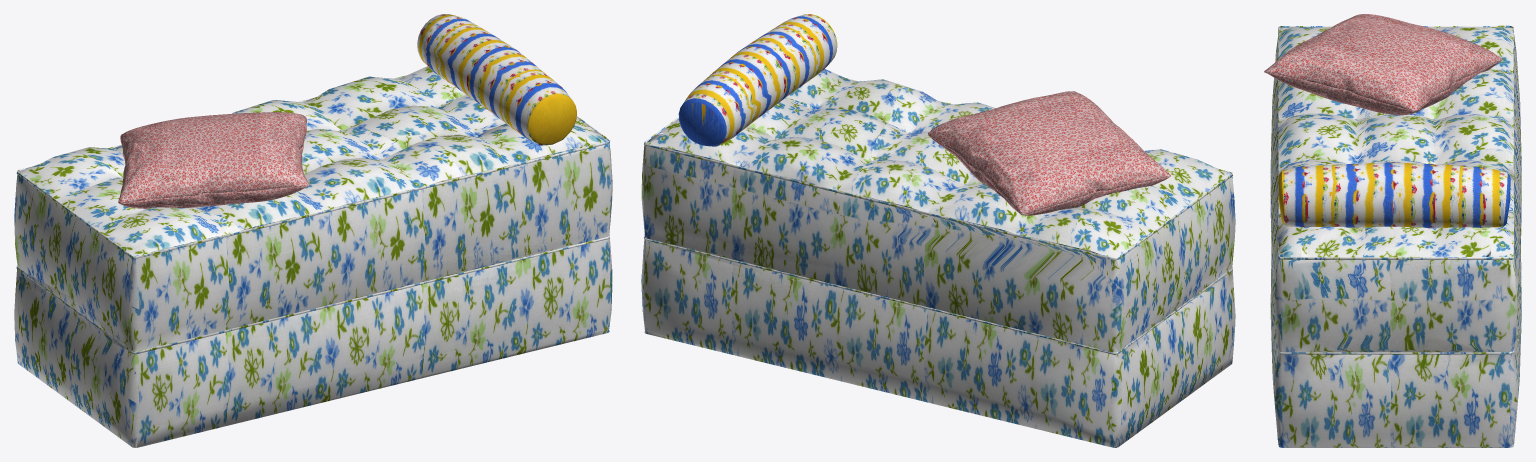
The model's file is sofa.fbx.
The picture shows the model from 3 angles, left to right: view 1: azimuth 30°, elevation 25°; view 2: azimuth 150°, elevation 25°; view 3: azimuth 270°, elevation 25°; orthographic projection.
Visible parts, largest first — view 1: Group_001, Pillow05, Group#26_001; view 2: Group_001, Pillow05, Group#26_001; view 3: Group_001, Pillow05, Group#26_001.
Part boxes in pixels (bbox=[...]): Group_001: bbox=[14, 66, 612, 447]; Pillow05: bbox=[118, 112, 309, 208]; Group#26_001: bbox=[417, 14, 576, 145]; Group_001: bbox=[641, 69, 1235, 447]; Pillow05: bbox=[928, 91, 1170, 215]; Group#26_001: bbox=[678, 14, 837, 146]; Group_001: bbox=[1270, 25, 1521, 447]; Pillow05: bbox=[1264, 14, 1502, 115]; Group#26_001: bbox=[1278, 162, 1510, 228].
Size of the model in its own units: 144 by 72.01 by 65.86.
